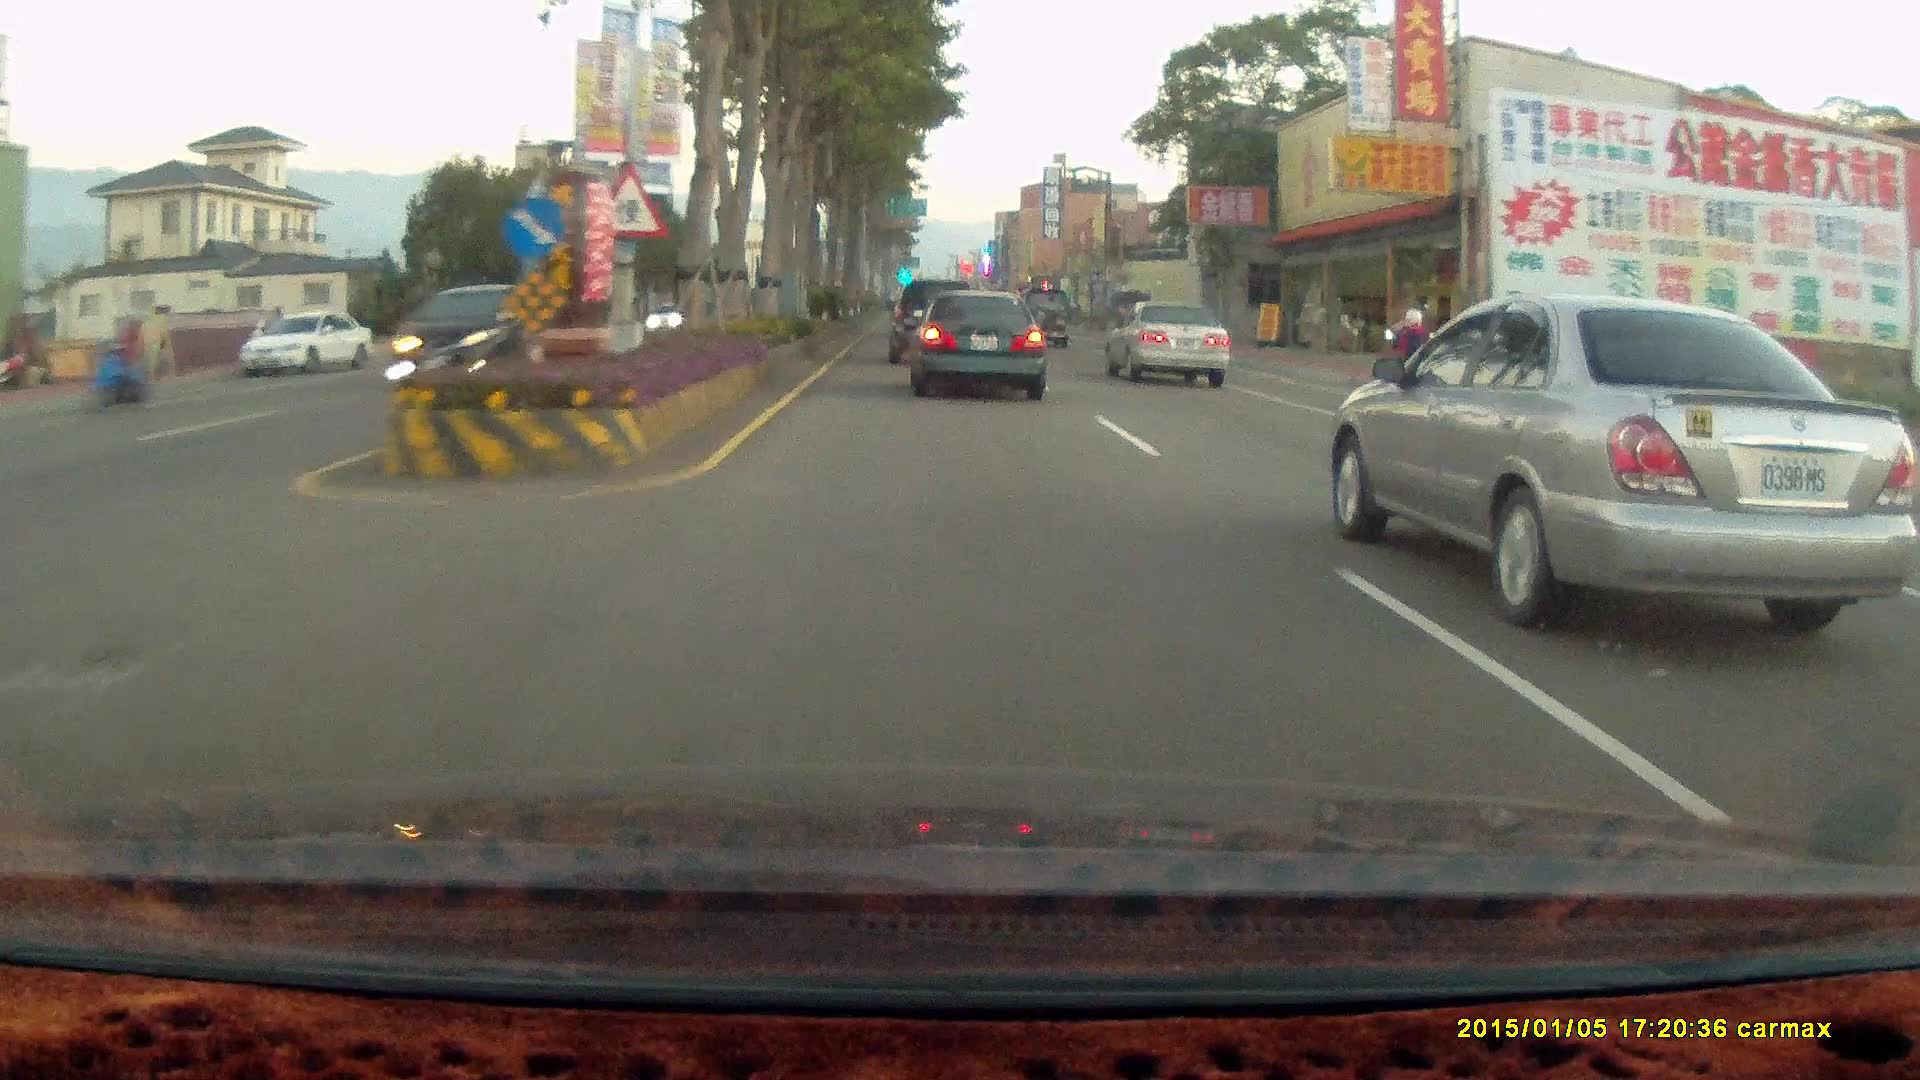rider: (1376, 296, 1451, 419), (88, 311, 154, 418), (1382, 323, 1436, 431)
vehicle: (1344, 288, 1920, 632), (382, 284, 555, 397), (908, 287, 1051, 404), (903, 287, 1047, 399), (1103, 301, 1229, 387), (1108, 303, 1234, 389), (243, 312, 374, 382), (237, 309, 365, 378), (885, 279, 978, 368), (888, 281, 974, 366), (1011, 287, 1071, 349)
